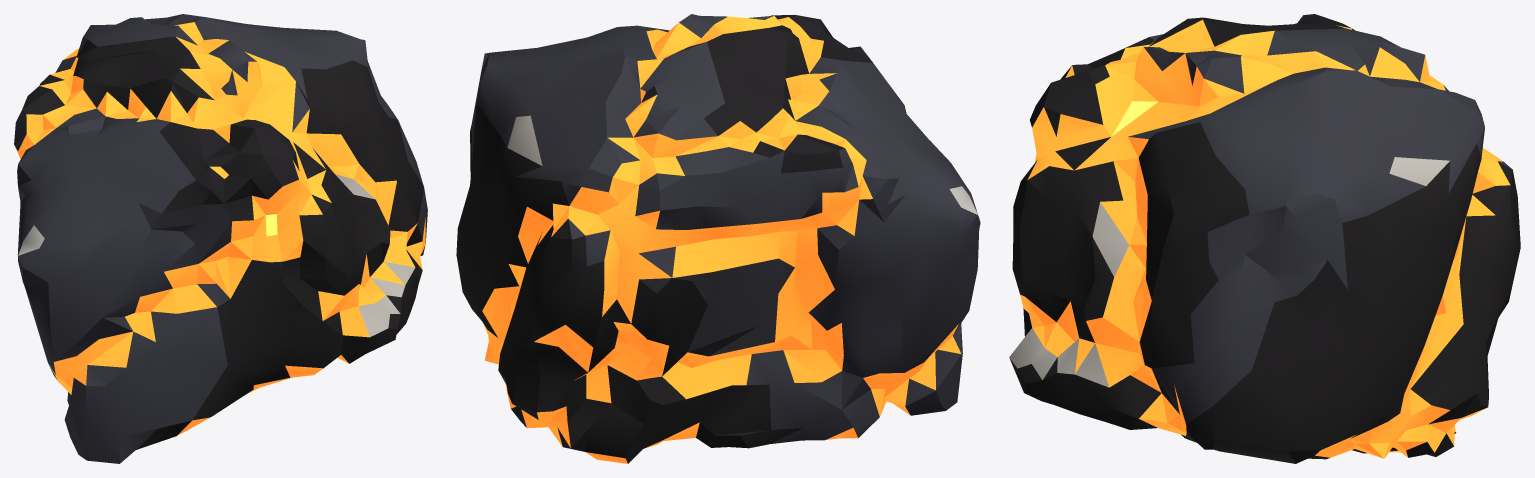
File: ember_coal_hot_a.glb
3 renders of one model, left to right at view 1: azimuth 30°, elevation 25°; view 2: azimuth 150°, elevation 25°; view 3: azimuth 270°, elevation 25°, orthographic. The views are drawn at different scales.
Parts seen in each view (by area): view 1: ember_coal_hot_a; view 2: ember_coal_hot_a; view 3: ember_coal_hot_a.
Boxes of the visible parts, x1,y1,x2,y2 form: ember_coal_hot_a: (14,14,427,463); ember_coal_hot_a: (456,14,980,463); ember_coal_hot_a: (1009,14,1520,463).
Bounding box in the file's own units: 2.52 × 1.93 × 2.23.
